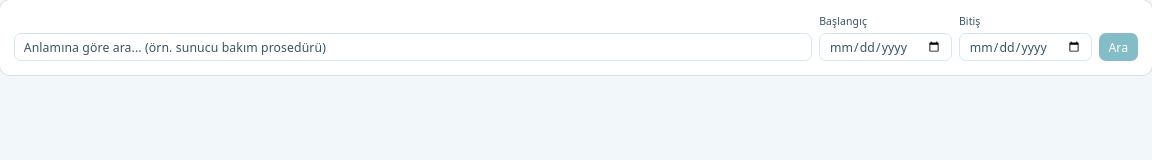
it: WikiSearch › sonuç yoksa boş-durum mesajını gösterir
In the field with placeholder "Anlamına göre ara... (örn. sunucu bakım prosedürü)": (413, 47) [14,33,812,61], type "alakasız bir sorgu"
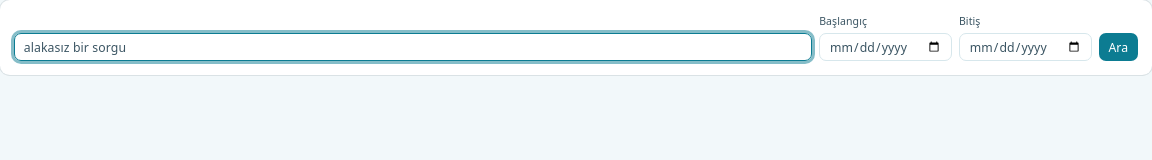
Click the button "Ara": click(1118, 47) [1099,33,1138,61]
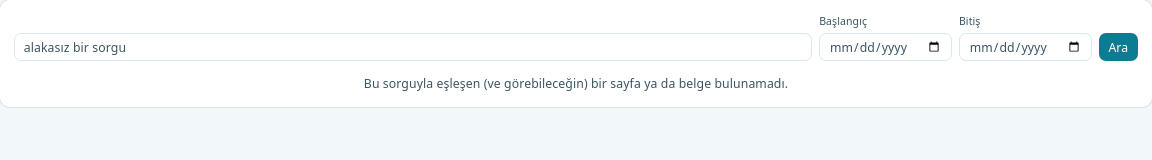
expect the text "eşleşen (ve görebileceğin) bir sayfa ya da belge bulunamadı" is shown: met, box [364,75,788,92]
